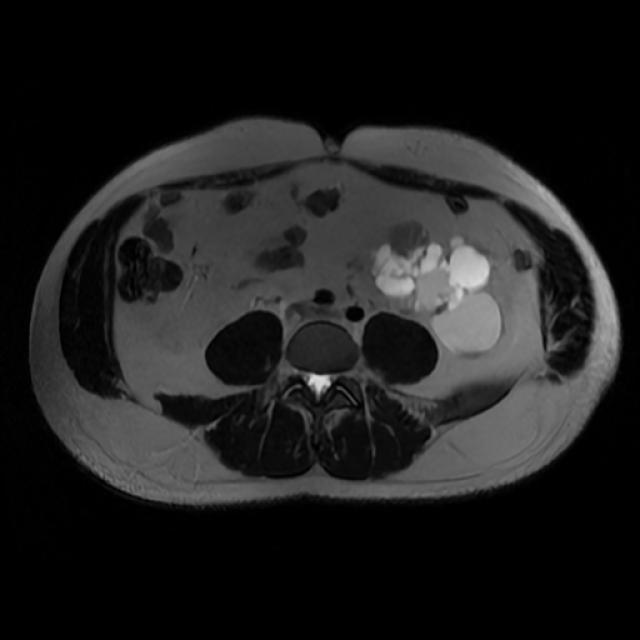sol: (368, 220, 503, 360)
